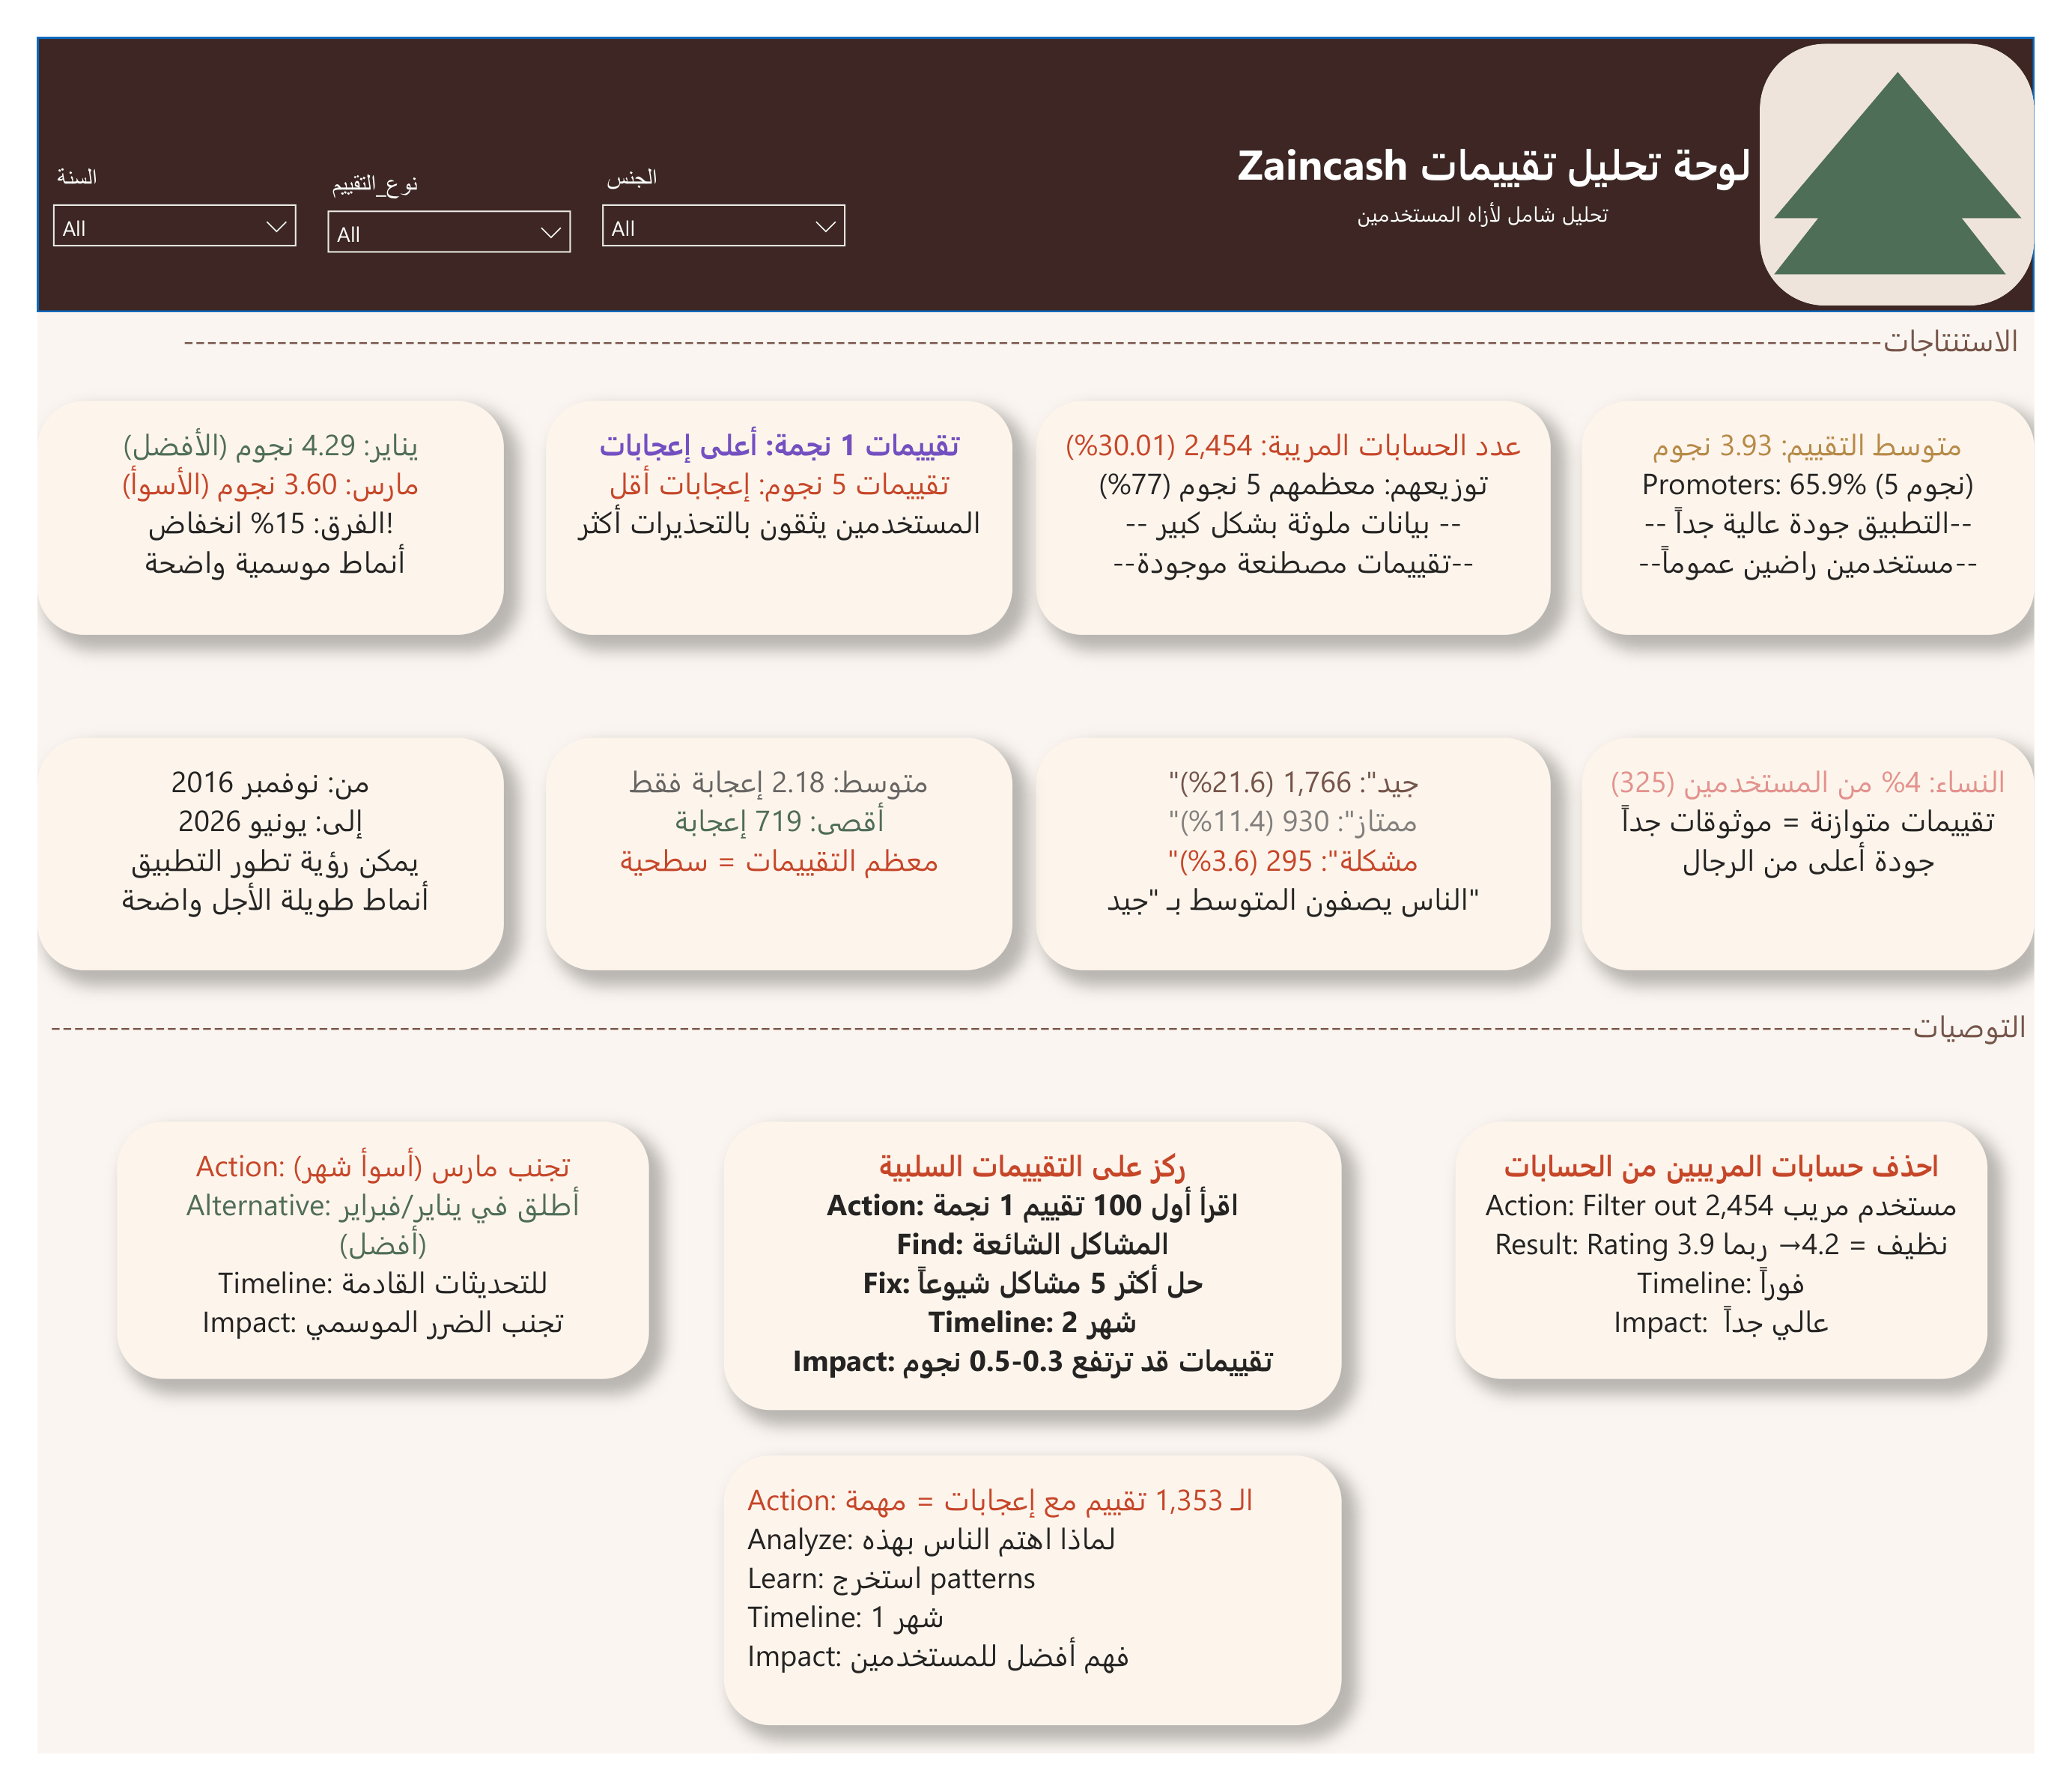

The page's visual inventory and layout, read from the dashboard file:
{"tool":"powerbi","page":{"name":"Page 5","canvas":[1280,1100],"ordinal":4},"visuals":[{"type":"shape","box":[0,0,1280.4,176],"z":0},{"type":"shape","box":[1104.4,4.4,176,167.2],"z":1},{"type":"shape","box":[1113.2,22,158.4,94],"z":2},{"type":"shape","box":[1113.2,57.2,149,94.6],"z":3},{"type":"textbox","box":[743.6,57.2,360.8,79.2],"z":4},{"type":"textbox","box":[836,99,176,52.8],"z":5},{"type":"slicer","fields":{"Values":["zaincash_reviews_with_analysis.السنة"]},"box":[0,77,176,94.6],"z":6},{"type":"slicer","fields":{"Values":["zaincash_reviews_with_analysis.نوع_التقييم"]},"box":[176,81.4,176,94.6],"z":7},{"type":"slicer","fields":{"Values":["zaincash_reviews_with_analysis.الجنس"]},"box":[352,77,176,94.6],"z":8},{"type":"textbox","box":[0,176,1280.4,57.2],"z":9},{"type":"textbox","box":[990,233.2,290.4,149.6],"z":10},{"type":"textbox","box":[640.2,233.2,330,149.6],"z":11},{"type":"textbox","box":[325.6,233.2,299.2,149.6],"z":12},{"type":"textbox","box":[0,233.2,299.2,149.6],"z":13},{"type":"textbox","box":[990,448.8,290.4,149.6],"z":14},{"type":"textbox","box":[640.2,448.8,330,149.6],"z":15},{"type":"textbox","box":[0,616,1280.4,52.8],"z":16},{"type":"textbox","box":[325.6,448.8,299.2,149.6],"z":17},{"type":"textbox","box":[0,448.8,299.2,149.6],"z":18},{"type":"textbox","box":[908.6,695.2,341,165],"z":19},{"type":"textbox","box":[440,695.2,396,184.8],"z":20},{"type":"textbox","box":[50.6,695.2,341,165],"z":21},{"type":"textbox","box":[440,908.6,396,173.8],"z":22}]}

Visuals, with their boxes on the page's 1280x1100 design canvas (x1, y1, x2, y2). These are canvas units, not pixel positions in the 2072x1791 screenshot, which may show the page scaled, cropped or inside an application window:
shape: 0:0:1280:176
shape: 1104:4:1280:172
shape: 1113:22:1272:116
shape: 1113:57:1262:152
textbox: 744:57:1104:136
textbox: 836:99:1012:152
slicer - zaincash_reviews_with_analysis.السنة: 0:77:176:172
slicer - zaincash_reviews_with_analysis.نوع_التقييم: 176:81:352:176
slicer - zaincash_reviews_with_analysis.الجنس: 352:77:528:172
textbox: 0:176:1280:233
textbox: 990:233:1280:383
textbox: 640:233:970:383
textbox: 326:233:625:383
textbox: 0:233:299:383
textbox: 990:449:1280:598
textbox: 640:449:970:598
textbox: 0:616:1280:669
textbox: 326:449:625:598
textbox: 0:449:299:598
textbox: 909:695:1250:860
textbox: 440:695:836:880
textbox: 51:695:392:860
textbox: 440:909:836:1082
